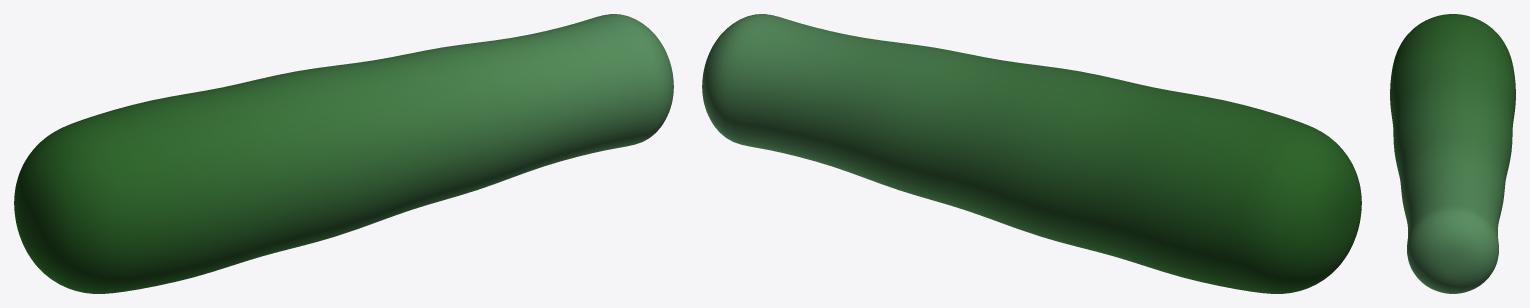
File: HH_Cucumber.fbx
3 renders of one model, left to right at view 1: azimuth 30°, elevation 25°; view 2: azimuth 150°, elevation 25°; view 3: azimuth 270°, elevation 25°, orthographic. The views are drawn at different scales.
Visible parts, largest first — view 1: Cucumber; view 2: Cucumber; view 3: Cucumber.
Part boxes in pixels (x1,y1,x2,y2): Cucumber: [14, 14, 673, 293]; Cucumber: [702, 14, 1361, 293]; Cucumber: [1390, 14, 1515, 293].
Size of the model in its own units: 60 by 15 by 15.
Materials: 1 (1 with a texture image).
